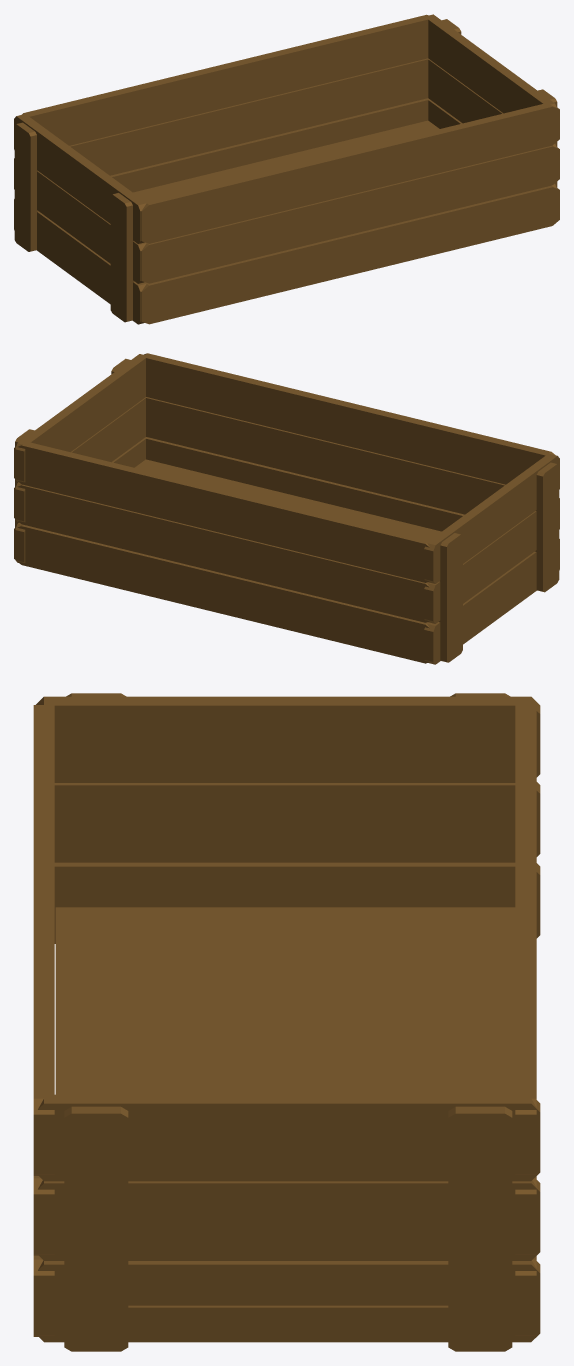
The model's file is Cagette.glb.
3 renders of one model, top to bottom at view 1: azimuth 30°, elevation 25°; view 2: azimuth 150°, elevation 25°; view 3: azimuth 270°, elevation 25°, orthographic. The views are drawn at different scales.
Visible parts, largest first — view 1: Cagette; view 2: Cagette; view 3: Cagette.
Boxes of the visible parts, box(x1,y1,x2,y2) form: Cagette: box(14, 14, 559, 324); Cagette: box(14, 353, 559, 664); Cagette: box(33, 693, 540, 1351).
Size of the model in its own units: 0.4861 by 0.13 by 0.2477.
